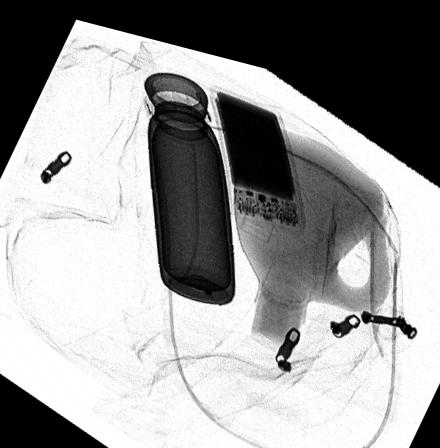Powerbank: (207, 75, 305, 221)
